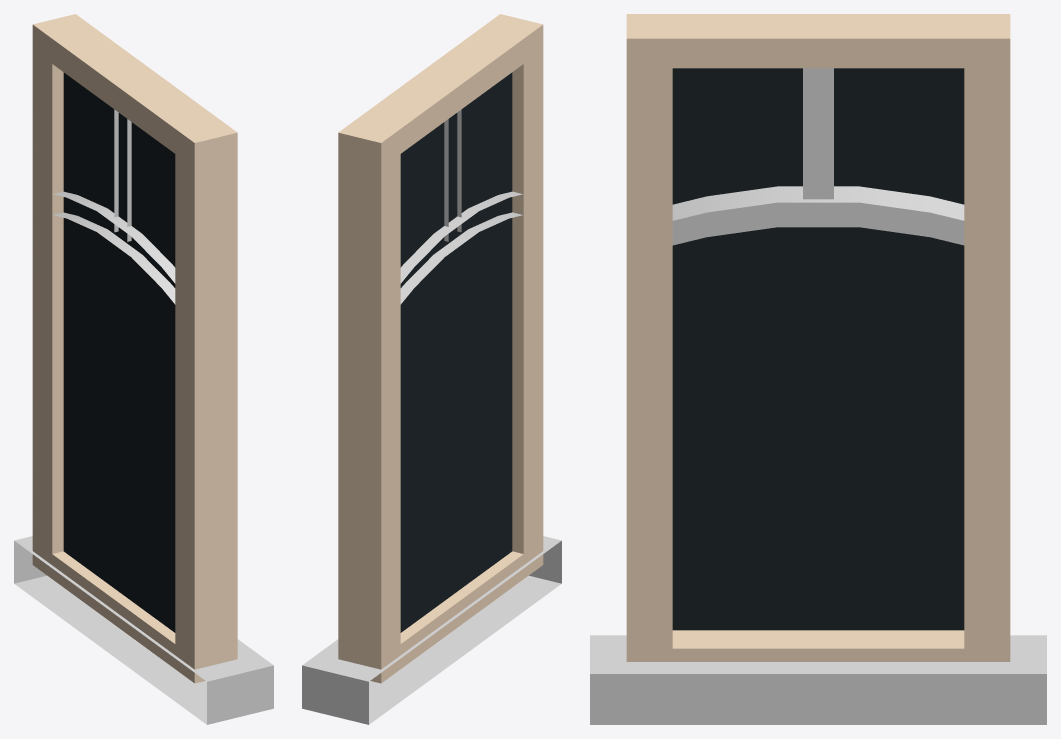
Rendered from Window01.fbx.
3 views of the same model, side by side, from view 1: azimuth 30°, elevation 25°; view 2: azimuth 150°, elevation 25°; view 3: azimuth 270°, elevation 25° (orthographic). The views are drawn at different scales.
Visible parts, largest first — view 1: Window01; view 2: Window01; view 3: Window01.
Part boxes in pixels (left/top/right/bottom): Window01: left=14, top=14, right=273, bottom=724; Window01: left=302, top=14, right=561, bottom=724; Window01: left=590, top=14, right=1046, bottom=724.
Bounding box in the file's own units: 25.89 × 211 × 129.
